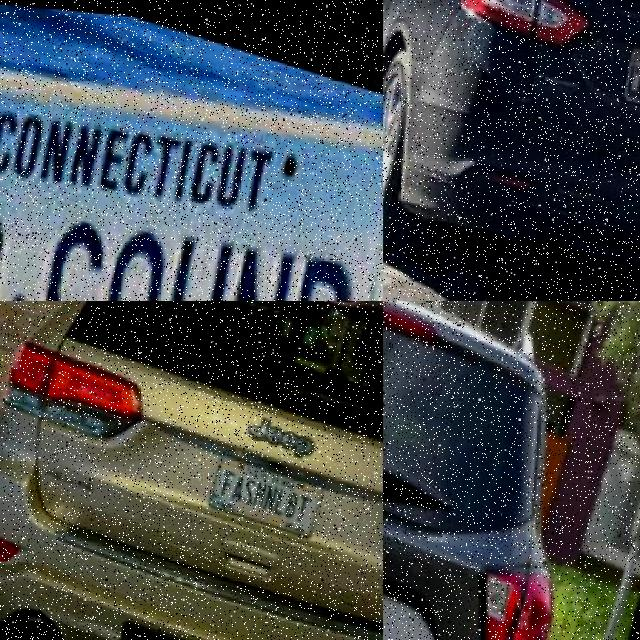licenseplate: (0, 120, 383, 300), (208, 445, 328, 531), (383, 541, 437, 640)
